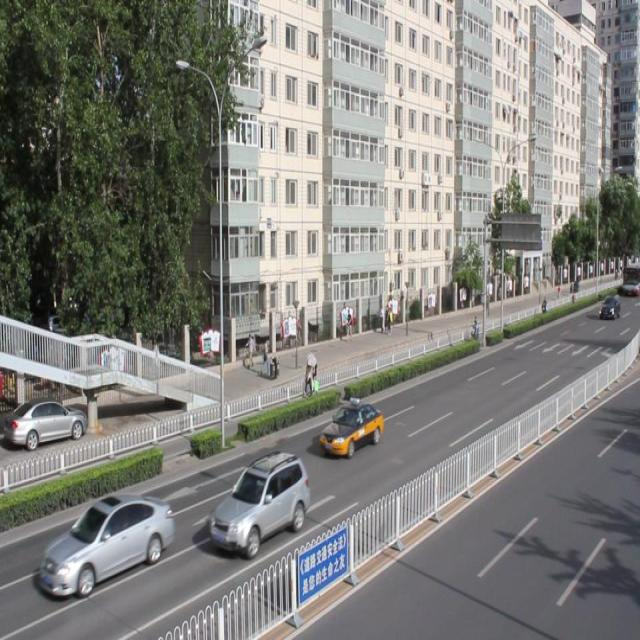car: (41, 492, 176, 595), (211, 448, 310, 556), (318, 397, 383, 459)
